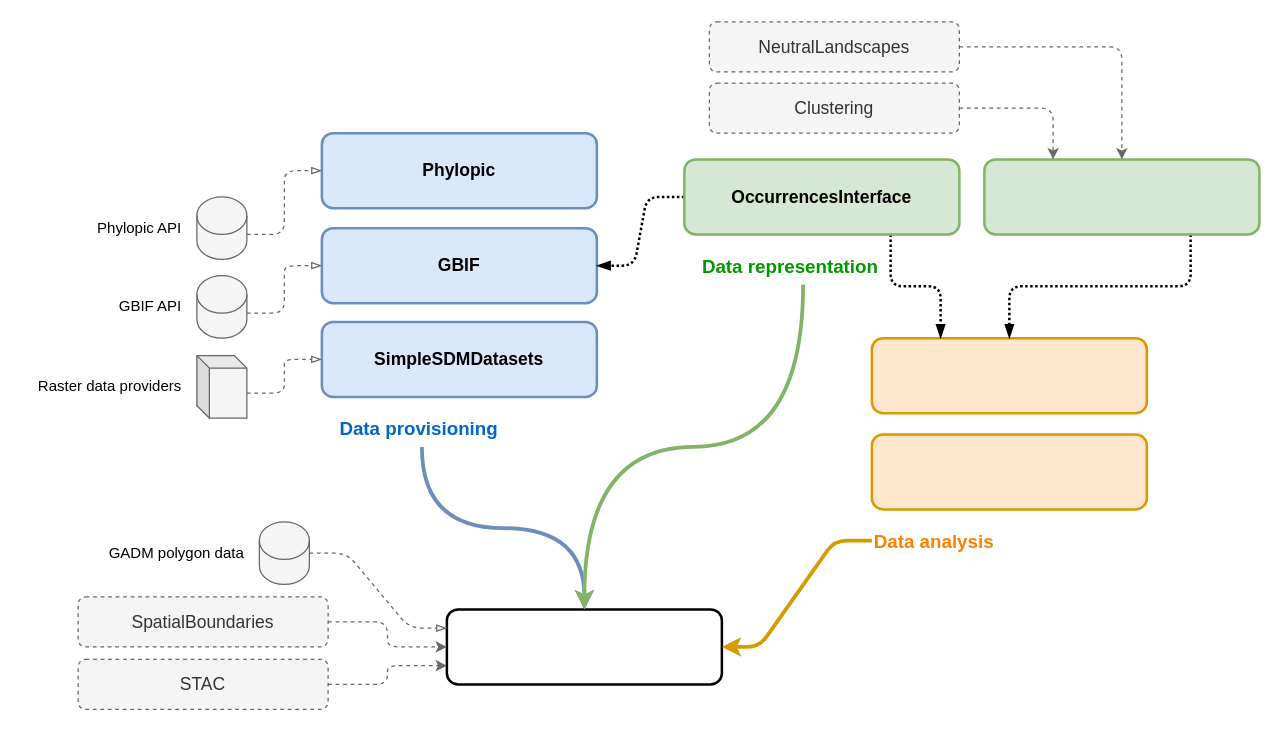
Image size: 1281x731. Some labels were removed from this diagram. The centre of each missing label's shape, as x and y in pixels:
"Fauxcurrences" belongs at point 1009,375.
"SDeMo" belongs at point 1009,471.
"SimpleSDMLayers" belongs at point 1121,196.
"SpeciesDistributionToolkit" belongs at point 583,646.
